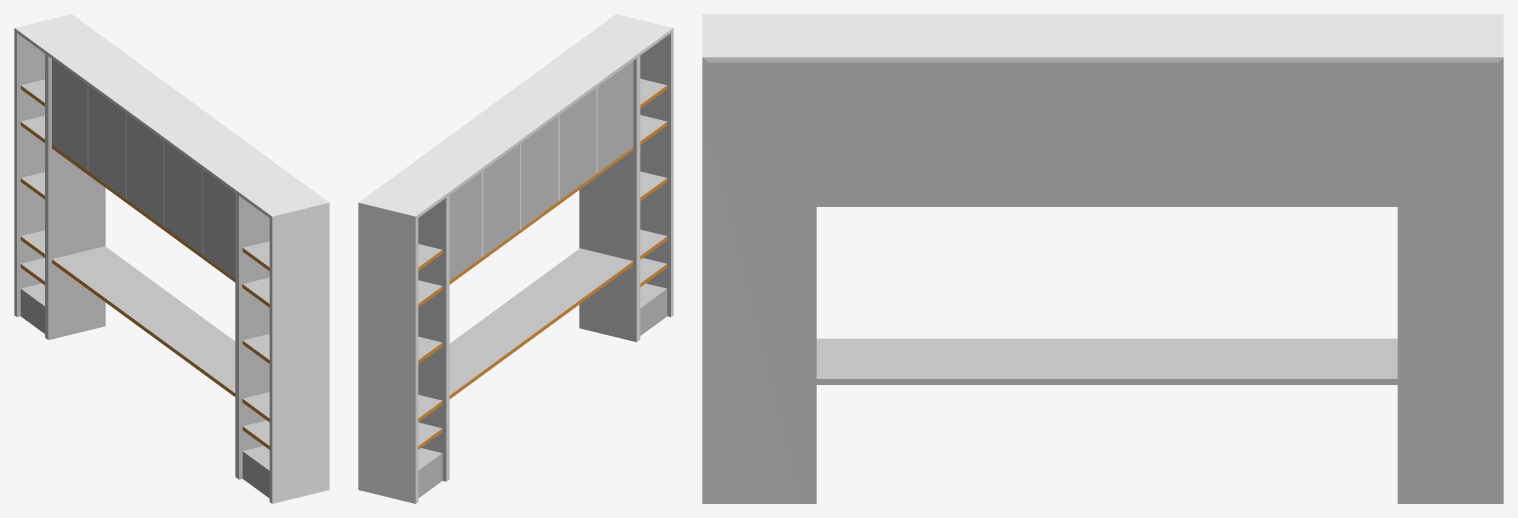
The model's file is SM_H_Residential_Bedroom_Cabinet_02_ATLAS.fbx.
The picture shows the model from 3 angles, left to right: view 1: azimuth 30°, elevation 25°; view 2: azimuth 150°, elevation 25°; view 3: azimuth 270°, elevation 25°; orthographic projection. The views are drawn at different scales.
Visible parts, largest first — view 1: SM_H_Residential_Bedroom_Cabinet_02_ATLAS; view 2: SM_H_Residential_Bedroom_Cabinet_02_ATLAS; view 3: SM_H_Residential_Bedroom_Cabinet_02_ATLAS.
Boxes of the visible parts, x1,y1,x2,y2 form: SM_H_Residential_Bedroom_Cabinet_02_ATLAS: (14, 14, 329, 503); SM_H_Residential_Bedroom_Cabinet_02_ATLAS: (358, 14, 673, 503); SM_H_Residential_Bedroom_Cabinet_02_ATLAS: (702, 14, 1503, 503).
Bounding box in the file's own units: 74.15 × 578 × 355.
